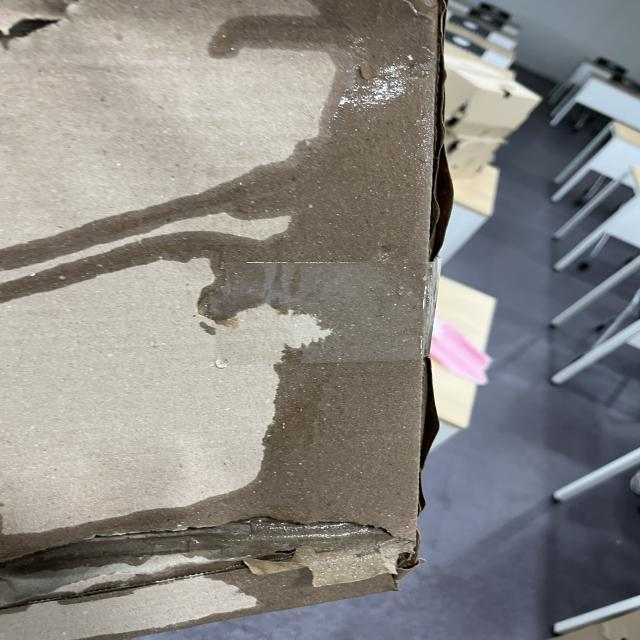wet: (258, 0, 439, 608)
